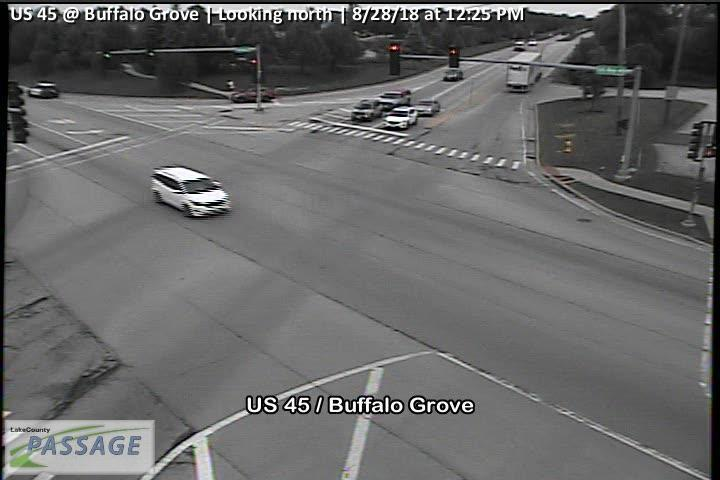SUV: (150, 164, 233, 220), (383, 105, 419, 132), (350, 96, 383, 122), (230, 83, 273, 102), (380, 89, 414, 107), (27, 81, 59, 98), (443, 65, 465, 82), (512, 40, 524, 51)
Sedan: (415, 98, 441, 118), (527, 38, 539, 47)
Truck: (505, 50, 544, 92)
